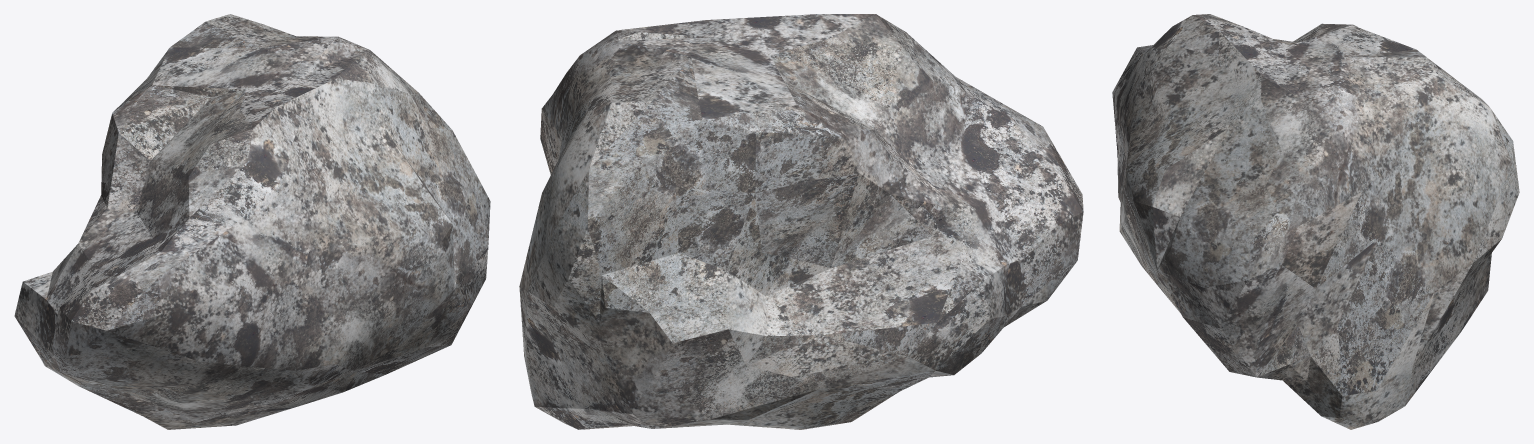
Rendered from Asteroid_Large_007.fbx.
3 views of the same model, side by side, from view 1: azimuth 30°, elevation 25°; view 2: azimuth 150°, elevation 25°; view 3: azimuth 270°, elevation 25° (orthographic). The views are drawn at different scales.
Parts seen in each view (by area): view 1: Asteroid_Large_007; view 2: Asteroid_Large_007; view 3: Asteroid_Large_007.
Part boxes in pixels (left/top/right/bottom): Asteroid_Large_007: left=14, top=14, right=490, bottom=429; Asteroid_Large_007: left=519, top=14, right=1083, bottom=429; Asteroid_Large_007: left=1112, top=14, right=1519, bottom=429.
Bounding box in the file's own units: 46.44 × 39.45 × 34.69.
Materials: 1 (1 with a texture image).
